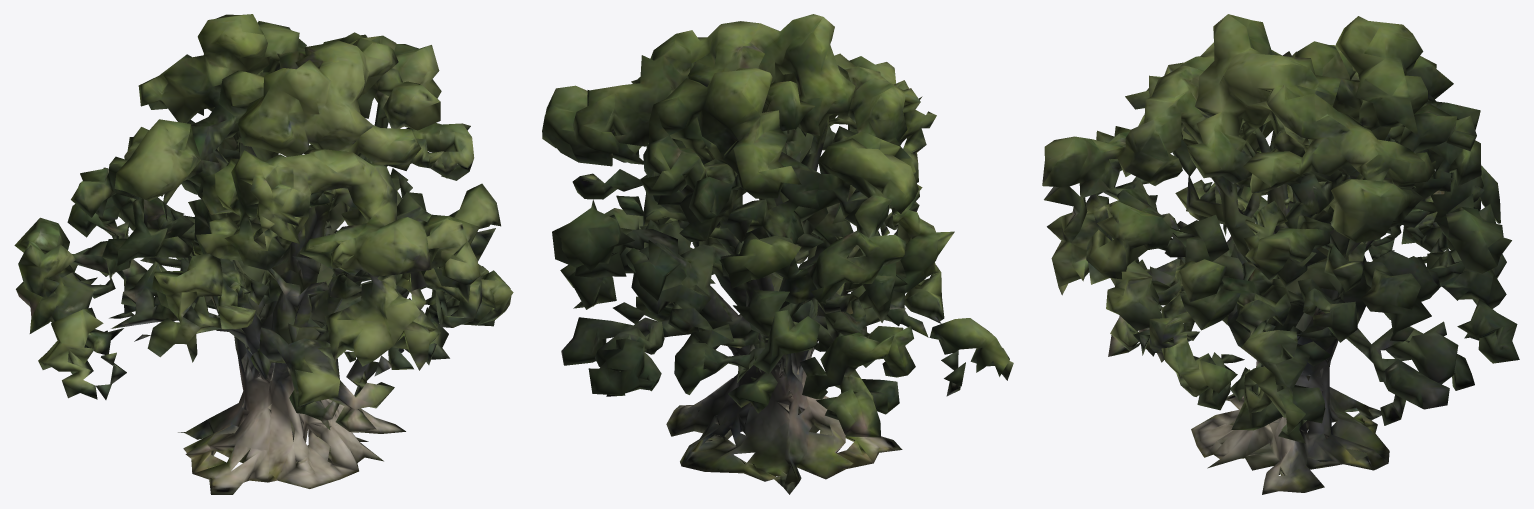
The model's file is tree__1207002847_texture.glb.
3 views of the same model, side by side, from view 1: azimuth 30°, elevation 25°; view 2: azimuth 150°, elevation 25°; view 3: azimuth 270°, elevation 25° (orthographic). The views are drawn at different scales.
Size of the model in its own units: 1.98 by 1.75 by 1.8.
Materials: 1 (1 with a texture image).
